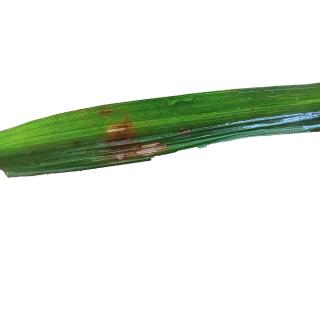Hawar-Daun: (104, 112, 134, 160), (133, 132, 168, 158), (177, 117, 191, 142)
